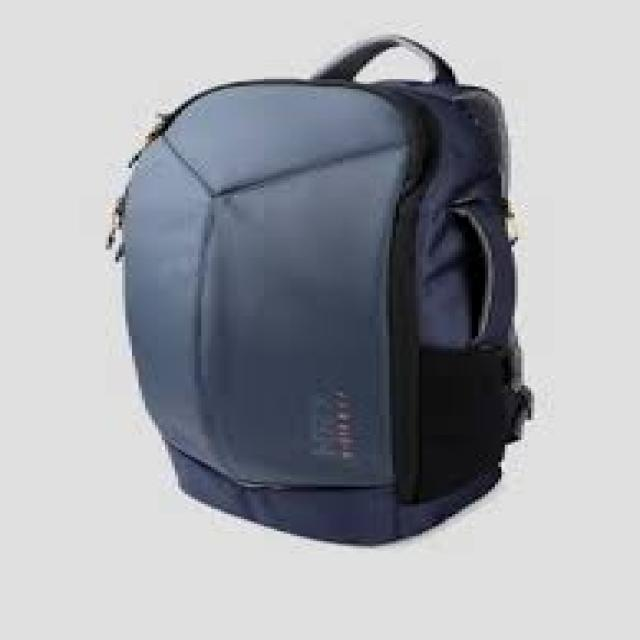backpack: (107, 33, 536, 547)
